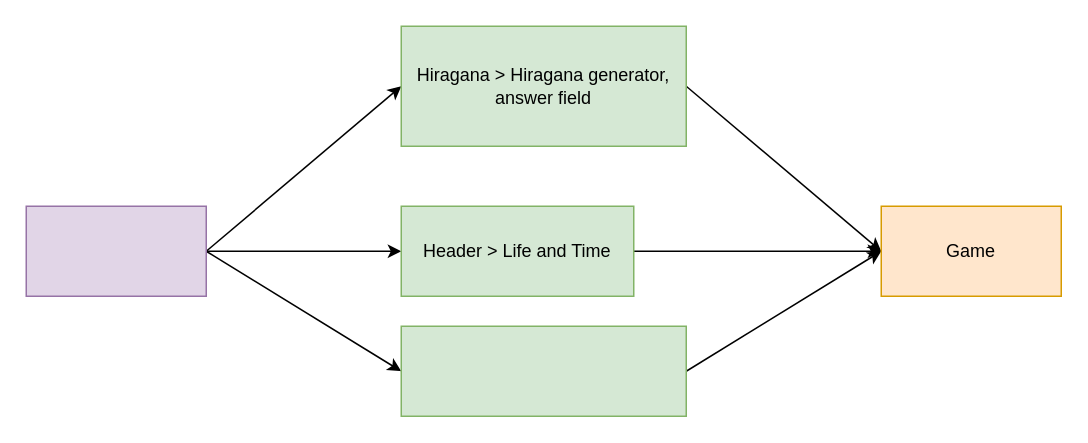
Image size: 1088x443. Some labels were removed from this diagram. Here are the shapes that lost their labels. From the top down, the box of each, then its label:
(25, 205, 206, 296): Components
(400, 325, 686, 416): Options > Difficult, theme, shere
